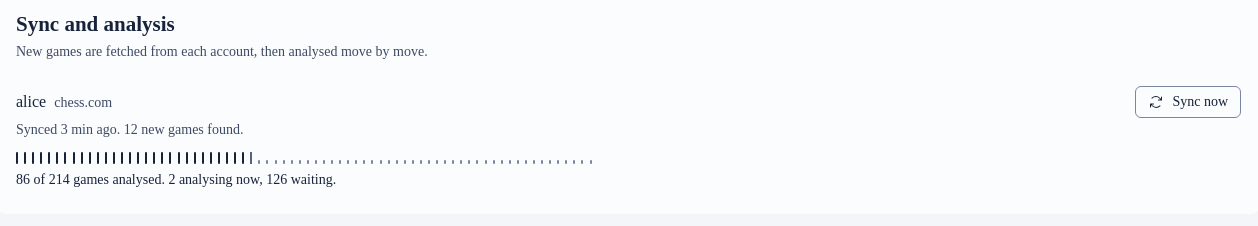
Test: SyncPanel › a throttled answer shows the cooldown
Click the button with aria-label "Sync now chess.com alice".
click(1188, 102)  # box [1135,86,1241,118]
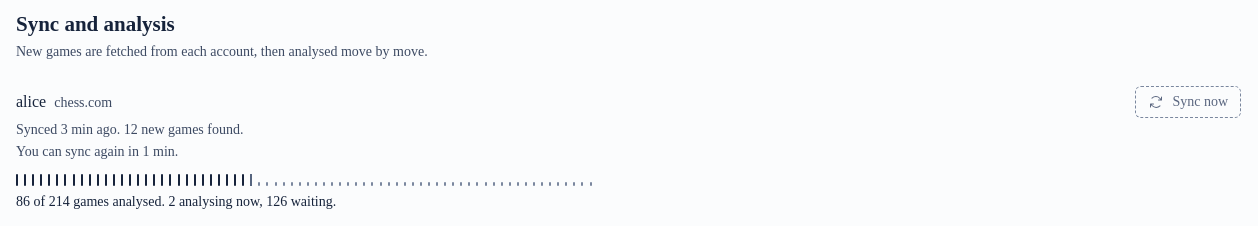
Now the text "You can sync again in 1 min." is shown, box [16,144,178,159]
